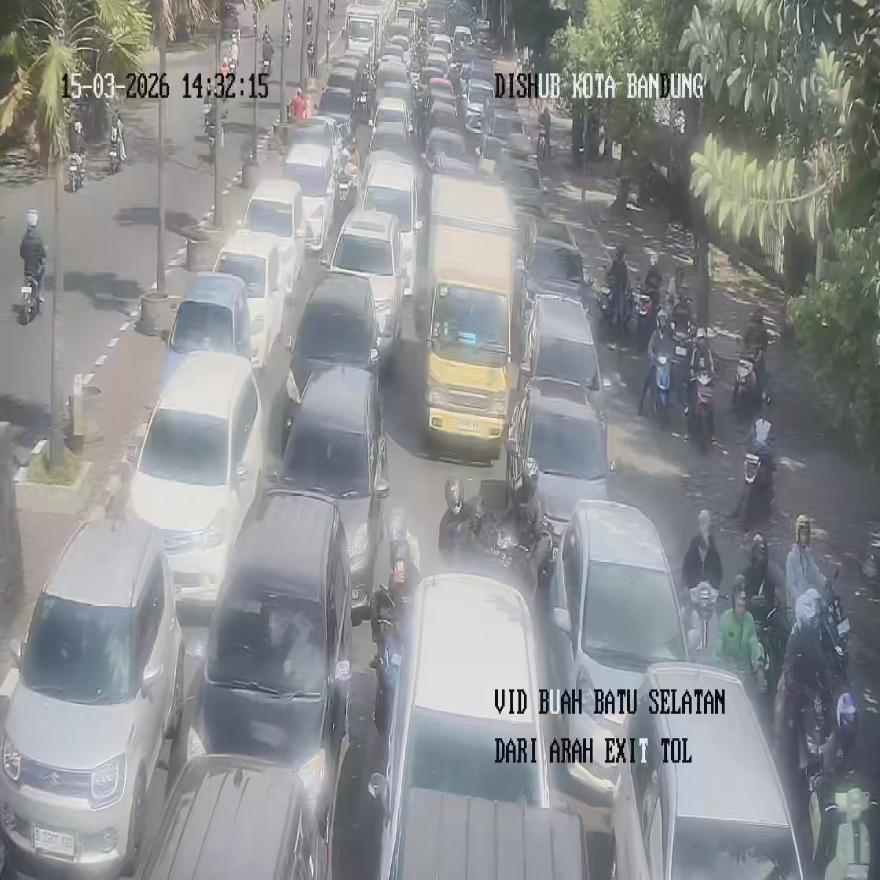Motor: (0, 519, 184, 879), (368, 573, 551, 879), (610, 661, 804, 879), (129, 351, 264, 610), (274, 365, 389, 625), (416, 177, 518, 455), (135, 754, 331, 879)
Truk: (808, 690, 876, 879), (473, 511, 553, 602), (810, 778, 877, 879), (374, 585, 402, 740), (749, 596, 788, 707), (438, 477, 485, 567), (484, 522, 536, 601), (739, 416, 774, 531), (820, 569, 850, 680), (797, 693, 829, 785), (740, 450, 772, 531), (687, 581, 719, 659), (605, 249, 632, 333), (689, 371, 714, 453), (733, 352, 761, 419), (672, 326, 692, 404), (632, 285, 656, 350), (653, 355, 670, 427), (667, 295, 695, 337), (20, 274, 39, 325), (339, 156, 358, 201), (599, 284, 617, 328), (68, 153, 84, 193), (206, 115, 217, 152), (203, 97, 213, 133), (537, 129, 547, 160), (110, 142, 120, 173), (307, 40, 315, 78), (207, 122, 217, 152), (285, 11, 293, 46), (207, 122, 216, 152), (306, 4, 313, 34), (261, 58, 271, 79), (229, 59, 237, 77), (329, 0, 335, 18), (307, 20, 312, 34)
